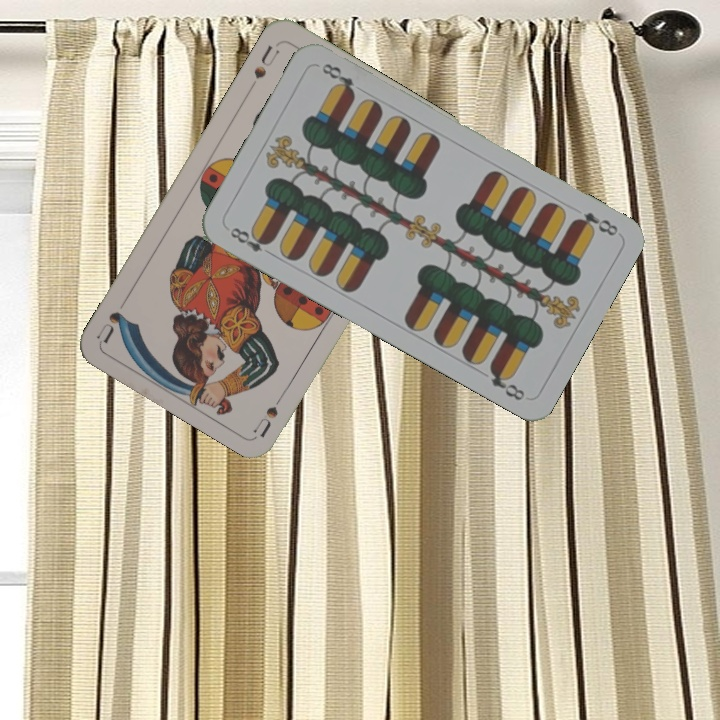E8: (226, 223, 277, 259), (569, 208, 621, 239)
SU: (250, 383, 291, 438), (249, 40, 283, 82)
